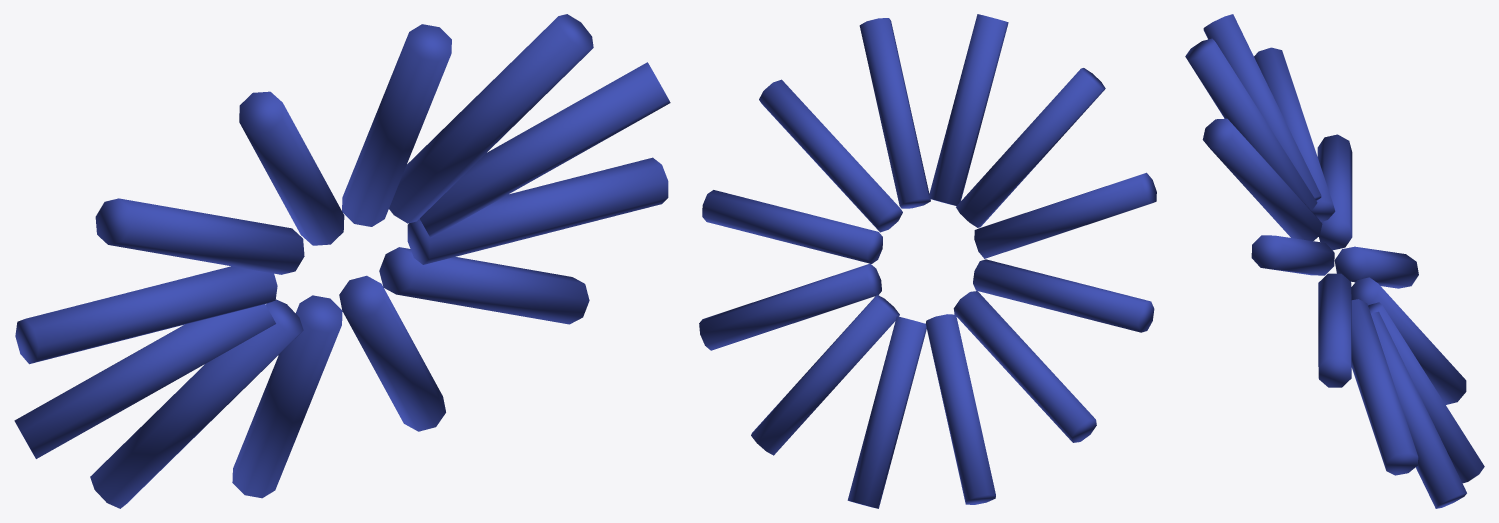
3 views of the same model, side by side, from view 1: azimuth 30°, elevation 25°; view 2: azimuth 150°, elevation 25°; view 3: azimuth 270°, elevation 25° (orthographic). The views are drawn at different scales.
Visible parts, largest first — view 1: Rod_02, Rod_01, Rod_06, Rod_07, Rod_00, Rod_08, Rod_03, Rod_05, Rod_09, Rod_11, Rod_04, Rod_10; view 2: Rod_09, Rod_03, Rod_04, Rod_02, Rod_08, Rod_11, Rod_07, Rod_10, Rod_00, Rod_06, Rod_01, Rod_05; view 3: Rod_11, Rod_03, Rod_02, Rod_10, Rod_04, Rod_00, Rod_09, Rod_05, Rod_08, Rod_06, Rod_01, Rod_07.
Boxes of the visible parts, left/top/right/bottom form: Rod_02: left=389, top=14, right=593, bottom=223; Rod_01: left=419, top=62, right=670, bottom=238; Rod_06: left=15, top=266, right=277, bottom=364; Rod_07: left=14, top=304, right=275, bottom=458; Rod_00: left=407, top=157, right=668, bottom=264; Rod_08: left=90, top=299, right=303, bottom=508; Rod_03: left=342, top=24, right=451, bottom=226; Rod_05: left=95, top=198, right=304, bottom=274; Rod_09: left=232, top=295, right=342, bottom=498; Rod_11: left=379, top=247, right=589, bottom=324; Rod_04: left=239, top=91, right=344, bottom=245; Rod_10: left=339, top=275, right=445, bottom=431; Rod_09: left=847, top=316, right=926, bottom=508; Rod_03: left=928, top=14, right=1008, bottom=205; Rod_04: left=956, top=68, right=1105, bottom=227; Rod_02: left=859, top=18, right=930, bottom=208; Rod_08: left=925, top=314, right=995, bottom=504; Rod_11: left=699, top=263, right=881, bottom=350; Rod_07: left=953, top=291, right=1096, bottom=442; Rod_10: left=751, top=294, right=899, bottom=455; Rod_00: left=702, top=190, right=882, bottom=263; Rod_06: left=973, top=259, right=1154, bottom=332; Rod_01: left=759, top=79, right=902, bottom=232; Rod_05: left=974, top=172, right=1156, bottom=258; Rod_11: left=1351, top=299, right=1418, bottom=475; Rod_03: left=1185, top=38, right=1317, bottom=210; Rod_02: left=1202, top=118, right=1322, bottom=240; Rod_10: left=1371, top=311, right=1466, bottom=508; Rod_04: left=1203, top=14, right=1321, bottom=200; Rod_00: left=1318, top=273, right=1351, bottom=387; Rod_09: left=1368, top=302, right=1484, bottom=483; Rod_05: left=1254, top=47, right=1335, bottom=221; Rod_08: left=1351, top=277, right=1466, bottom=404; Rod_06: left=1317, top=134, right=1352, bottom=250; Rod_01: left=1251, top=235, right=1334, bottom=275; Rod_07: left=1334, top=246, right=1418, bottom=288.
Bounding box in the file's own units: 3.96 × 3.56 × 2.2.
